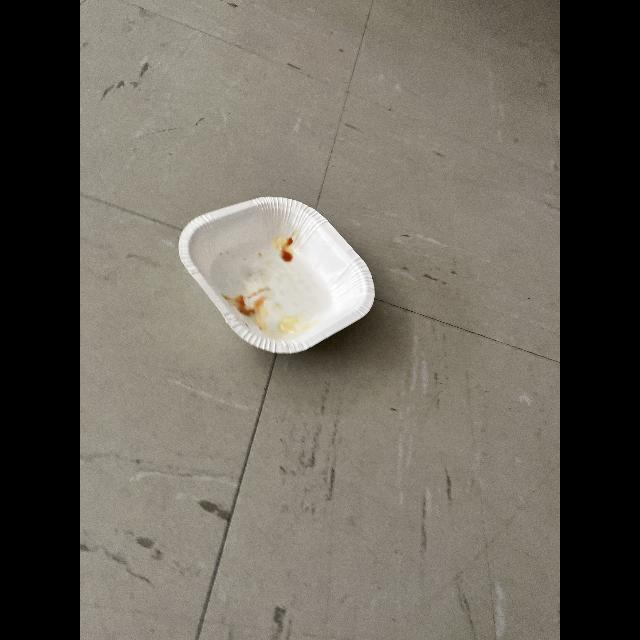cardboard_bowl: (167, 189, 396, 367)
